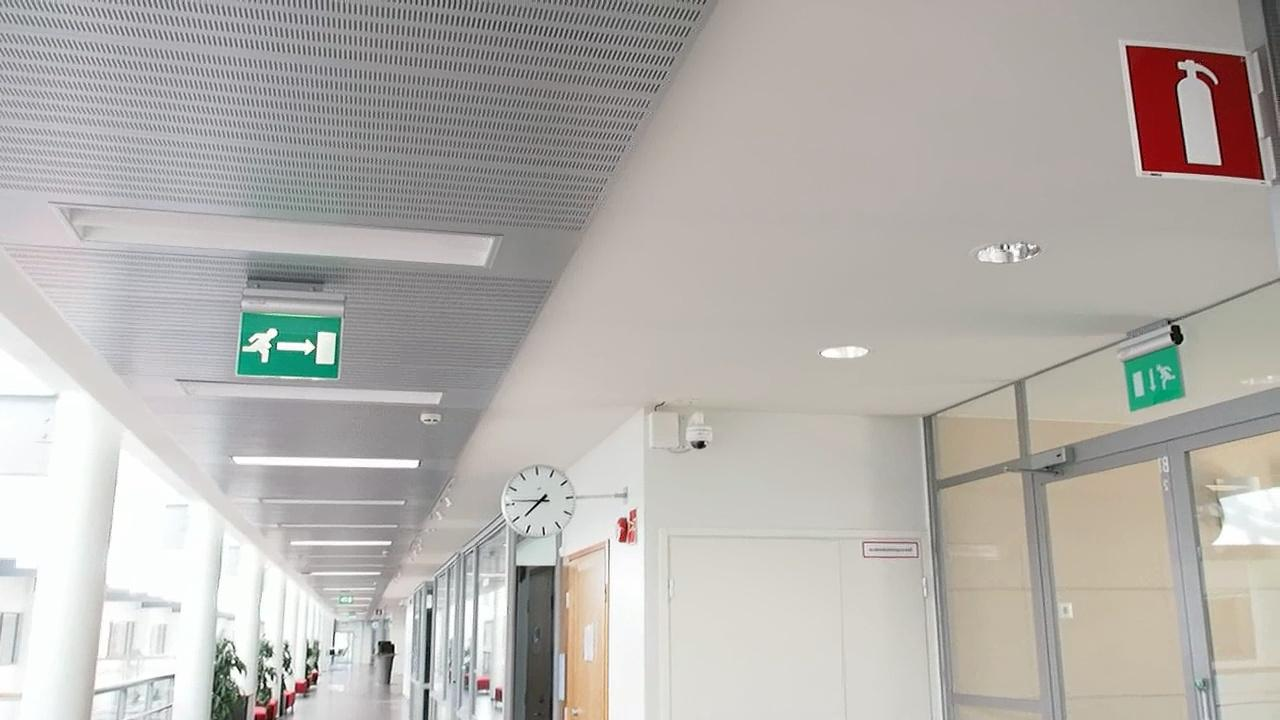clock: (496, 468, 578, 545)
exit: (228, 310, 341, 384), (1125, 345, 1184, 412)
fireextinguisher: (1137, 44, 1254, 176)
